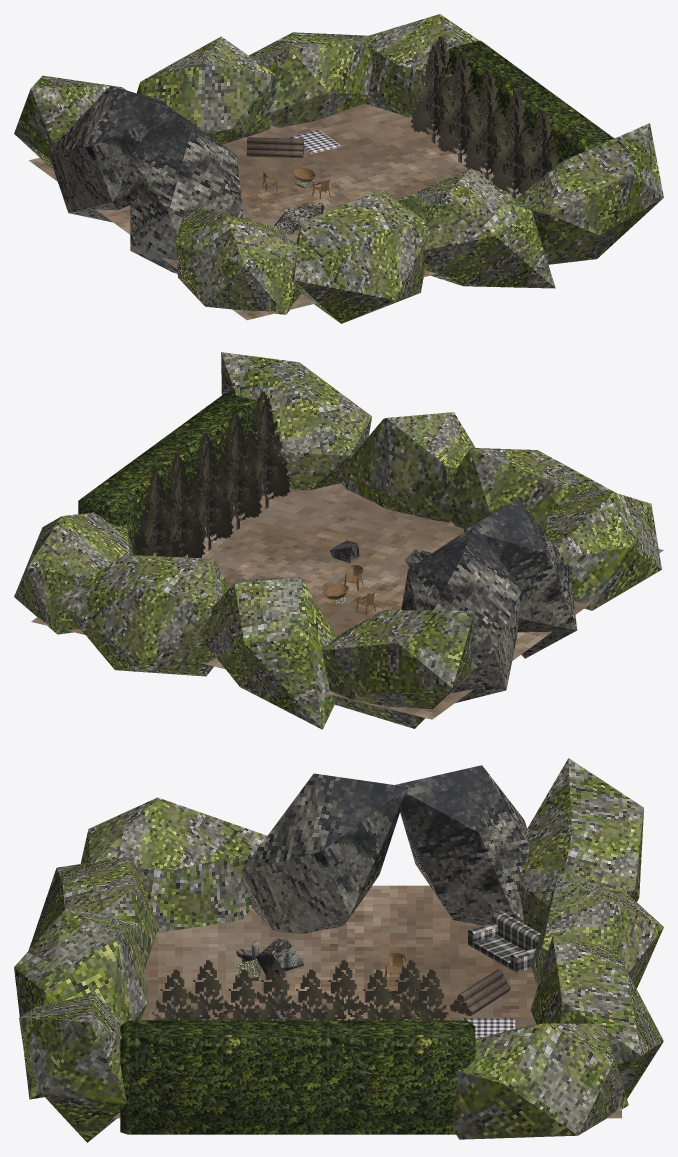
File: small-map.glb
The picture shows the model from 3 angles, top to bottom: view 1: azimuth 30°, elevation 25°; view 2: azimuth 150°, elevation 25°; view 3: azimuth 270°, elevation 25°; orthographic projection. The views are drawn at different scales.
Visible parts, largest first — view 1: small-arena-map-col; view 2: small-arena-map-col; view 3: small-arena-map-col.
Boxes of the visible parts, x1,y1,x2,y2 form: small-arena-map-col: (14, 14, 663, 323); small-arena-map-col: (14, 352, 663, 729); small-arena-map-col: (14, 758, 663, 1142).
Bounding box in the file's own units: 22.99 × 7.25 × 23.61.
11 materials, 11 textured.
